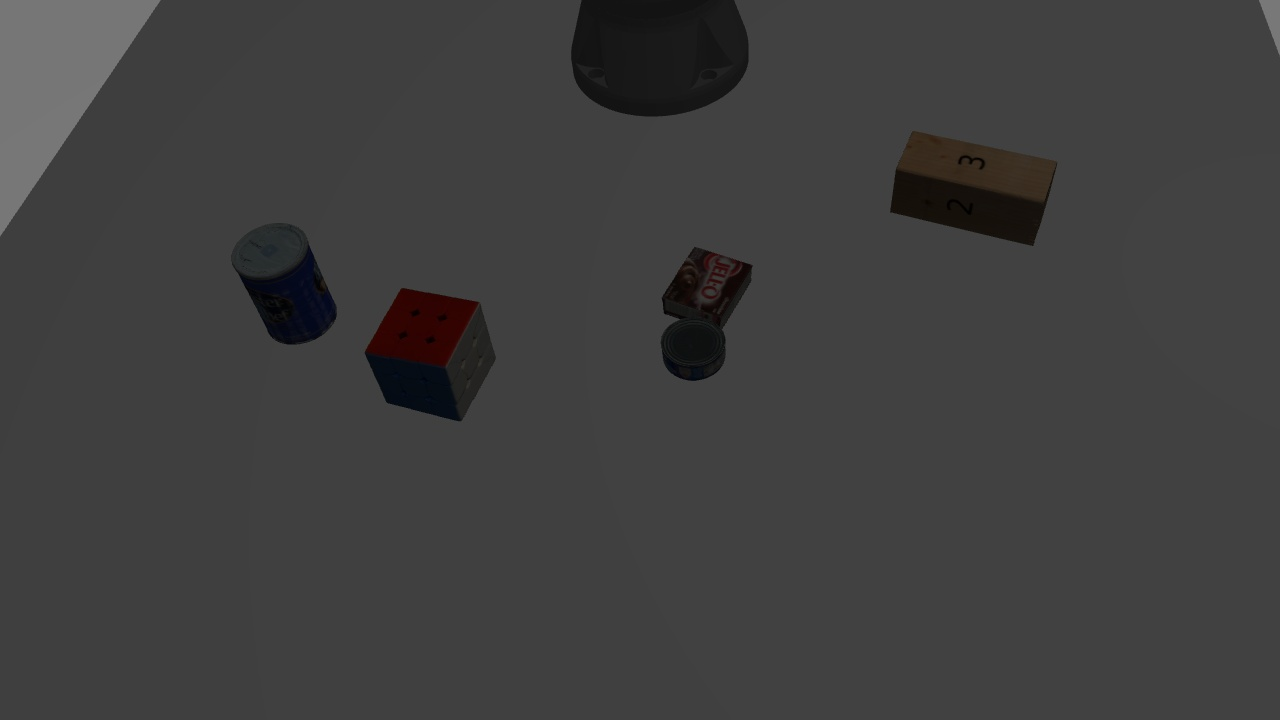master_chef_can: (231, 217, 341, 350)
pudding_box: (654, 238, 759, 333)
rubiks_cube: (359, 284, 501, 421)
tuna_fish_can: (655, 319, 729, 385)
wood_block: (886, 121, 1062, 253)
